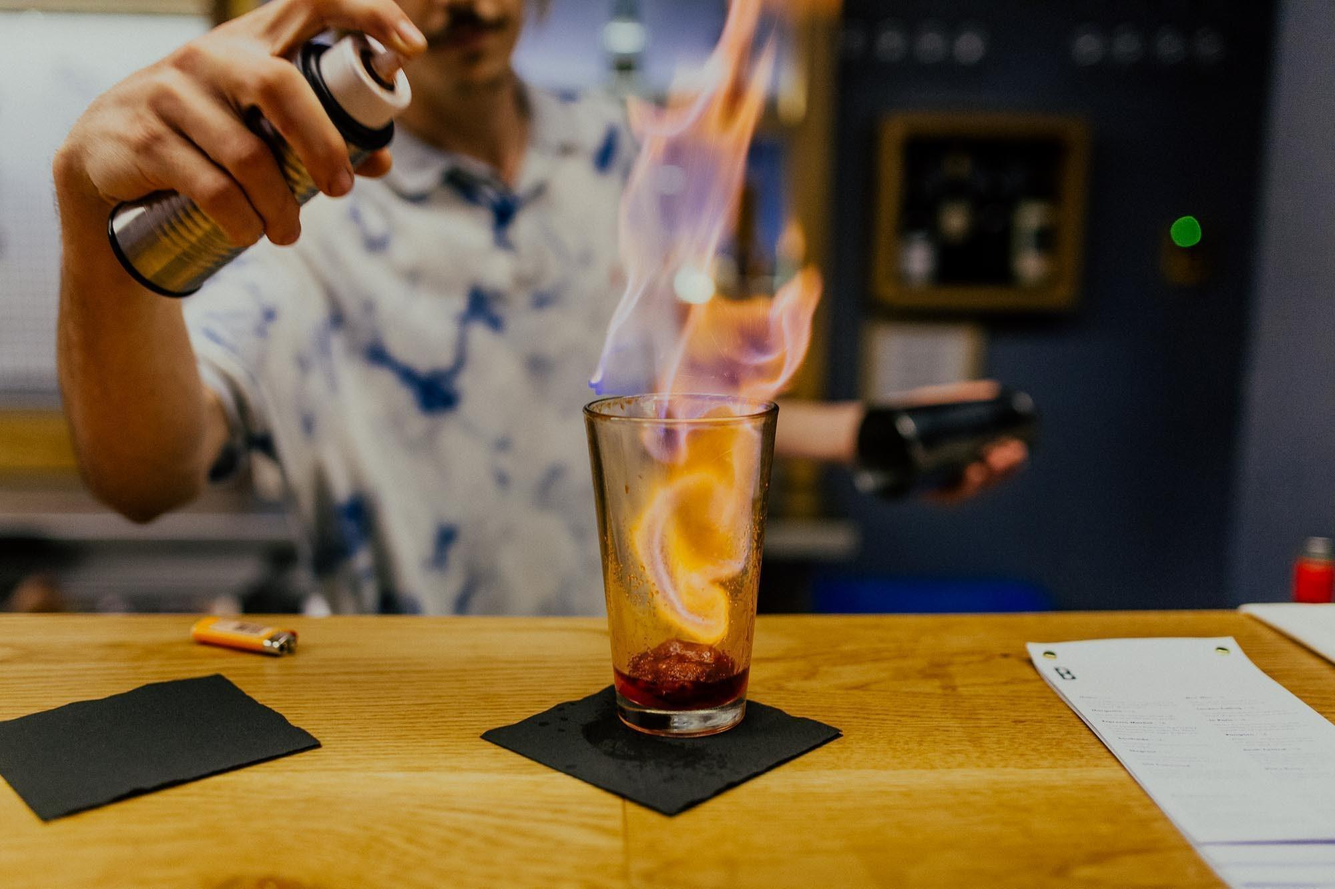glass-normal: (581, 391, 782, 740)
